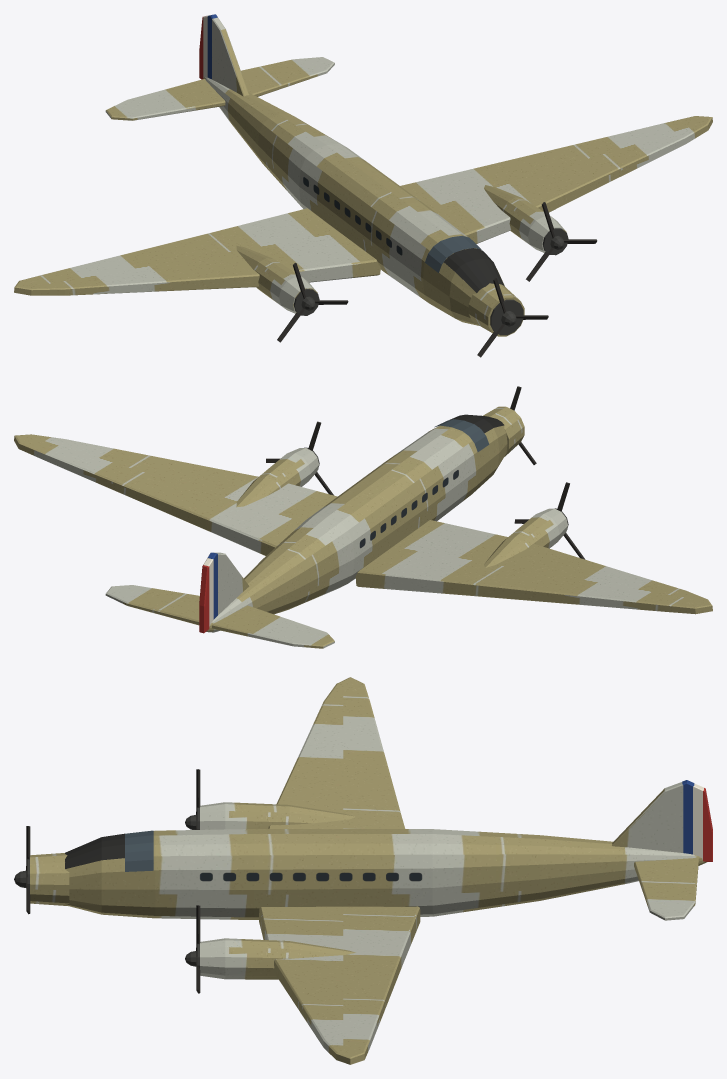
The model's file is airTransport.glb.
3 views of the same model, one above another, from view 1: azimuth 30°, elevation 25°; view 2: azimuth 150°, elevation 25°; view 3: azimuth 270°, elevation 25° (orthographic). The views are drawn at different scales.
Visible parts, largest first — view 1: fuselage_coque, aile_droite, aile_gauche, stabilisateur_droit, stabilisateur_gauche, fuseau_moteur_gauche, fuseau_moteur_droite, derive, capot_antireflet, capot_moteur_central, vitres_poste, moteur_central; view 2: fuselage_coque, aile_droite, aile_gauche, stabilisateur_droit, stabilisateur_gauche, fuseau_moteur_gauche, fuseau_moteur_droite, derive, capot_moteur_central, gouvernail_rouge, vitres_poste, hublots_droit (+1 smaller); view 3: fuselage_coque, aile_gauche, aile_droite, fuseau_moteur_gauche, stabilisateur_gauche, fuseau_moteur_droite, derive, capot_moteur_central, capot_antireflet, hublots_gauche, vitres_poste, gouvernail_bleu (+1 smaller).
Part boxes in pixels (x1=…): fuselage_coque: x1=203, y1=77, x2=504, y2=325; aile_droite: x1=14, y1=208, x2=380, y2=295; aile_gauche: x1=400, y1=116, x2=712, y2=243; stabilisateur_droit: x1=105, y1=79, x2=225, y2=120; stabilisateur_gauche: x1=241, y1=57, x2=334, y2=96; fuseau_moteur_gauche: x1=484, y1=185, x2=566, y2=252; fuseau_moteur_droite: x1=236, y1=245, x2=317, y2=313; derive: x1=212, y1=17, x2=249, y2=96; capot_antireflet: x1=444, y1=248, x2=504, y2=292; capot_moteur_central: x1=468, y1=283, x2=524, y2=336; vitres_poste: x1=425, y1=235, x2=483, y2=272; moteur_central: x1=490, y1=299, x2=523, y2=335; fuselage_coque: x1=206, y1=425, x2=507, y2=632; aile_droite: x1=355, y1=520, x2=712, y2=614; aile_gauche: x1=14, y1=434, x2=337, y2=555; stabilisateur_droit: x1=212, y1=605, x2=334, y2=648; stabilisateur_gauche: x1=105, y1=585, x2=199, y2=625; fuseau_moteur_gauche: x1=236, y1=448, x2=319, y2=507; fuseau_moteur_droite: x1=484, y1=508, x2=567, y2=567; derive: x1=214, y1=552, x2=249, y2=614; capot_moteur_central: x1=483, y1=406, x2=524, y2=456; gouvernail_rouge: x1=199, y1=565, x2=209, y2=633; vitres_poste: x1=434, y1=419, x2=489, y2=451; hublots_droit: x1=359, y1=470, x2=458, y2=548; fuselage_coque: x1=66, y1=829, x2=706, y2=919; aile_gauche: x1=259, y1=906, x2=420, y2=1064; aile_droite: x1=268, y1=677, x2=405, y2=828; fuseau_moteur_gauche: x1=200, y1=938, x2=355, y2=979; stabilisateur_gauche: x1=634, y1=857, x2=698, y2=920; fuseau_moteur_droite: x1=200, y1=802, x2=355, y2=829; derive: x1=612, y1=782, x2=683, y2=852; capot_moteur_central: x1=30, y1=853, x2=69, y2=906; capot_antireflet: x1=65, y1=833, x2=124, y2=869; hublots_gauche: x1=200, y1=872, x2=422, y2=881; vitres_poste: x1=125, y1=830, x2=153, y2=871; gouvernail_bleu: x1=682, y1=780, x2=694, y2=854.
Size of the model in its own units: 5.05 by 0.9067 by 3.91.
Materials: 9 (2 with a texture image).
